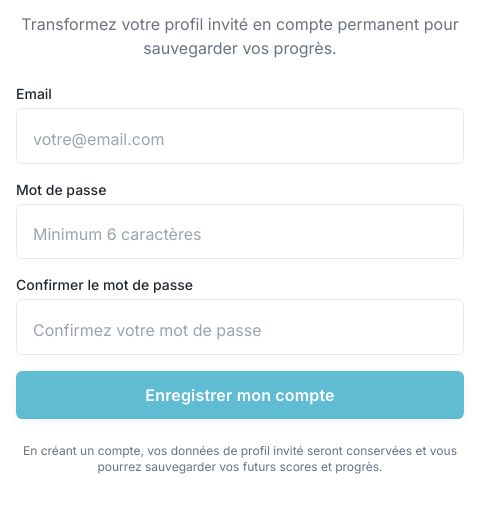
Test case: Form and Validation Rigor › GuestUpgradeForm Component › should clear validation errors when user starts typing
Create validation error
Type "test@example.com" into the field labelled "Email".
click(240, 136); type("test@example.com")  # box left=16, top=108, right=464, bottom=164
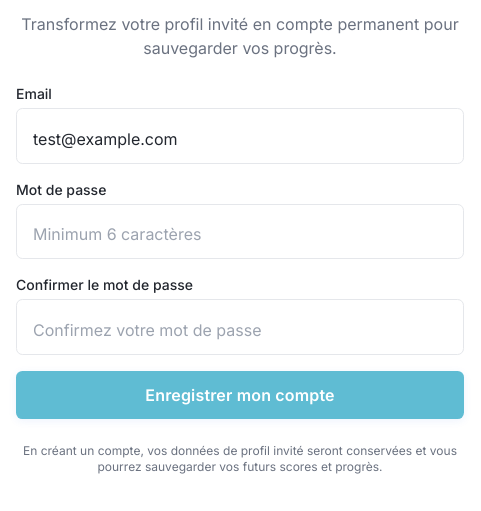
Type "password123" into the password field labelled "Mot de passe".
click(240, 231); type("password123")  # box left=16, top=204, right=464, bottom=259
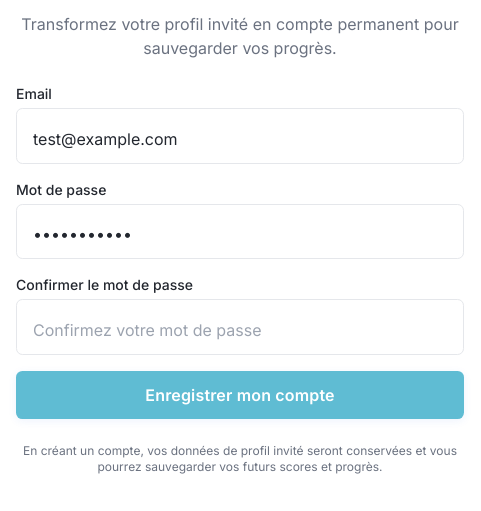
Type "different" into the password field labelled "Confirmer le mot de passe".
click(240, 327); type("different")  # box left=16, top=299, right=464, bottom=355
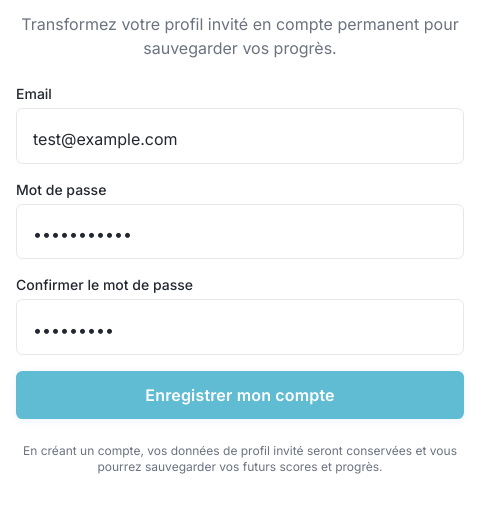
Click the button "Enregistrer mon compte".
click(240, 395)  # box left=16, top=371, right=464, bottom=419
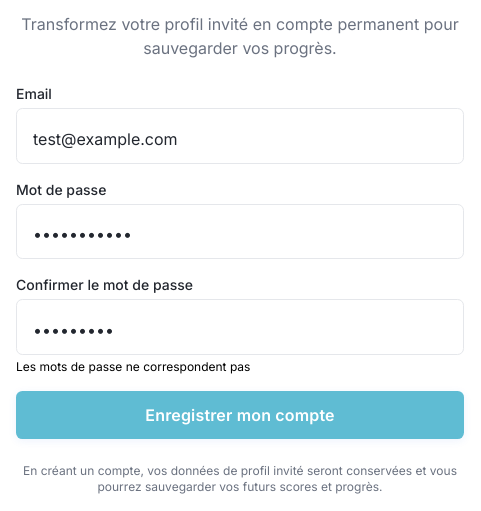
expect the text "Les mots de passe ne correspondent pas" is shown: met, box left=16, top=359, right=250, bottom=374
Start typing in confirm password field
Type "password123" into the password field labelled "Confirmer le mot de passe".
click(240, 327); type("password123")  # box left=16, top=299, right=464, bottom=355
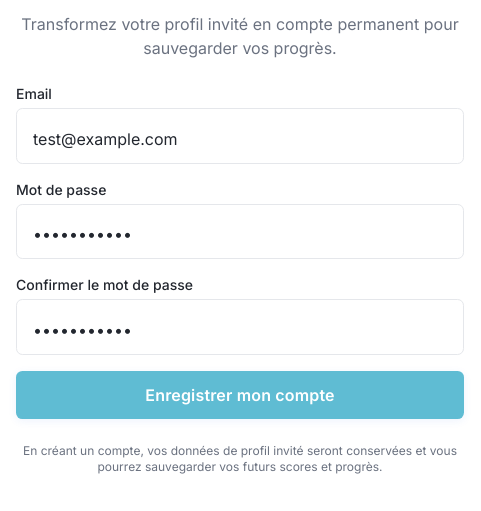
expect the text "Les mots de passe ne correspondent pas" is gone: met
